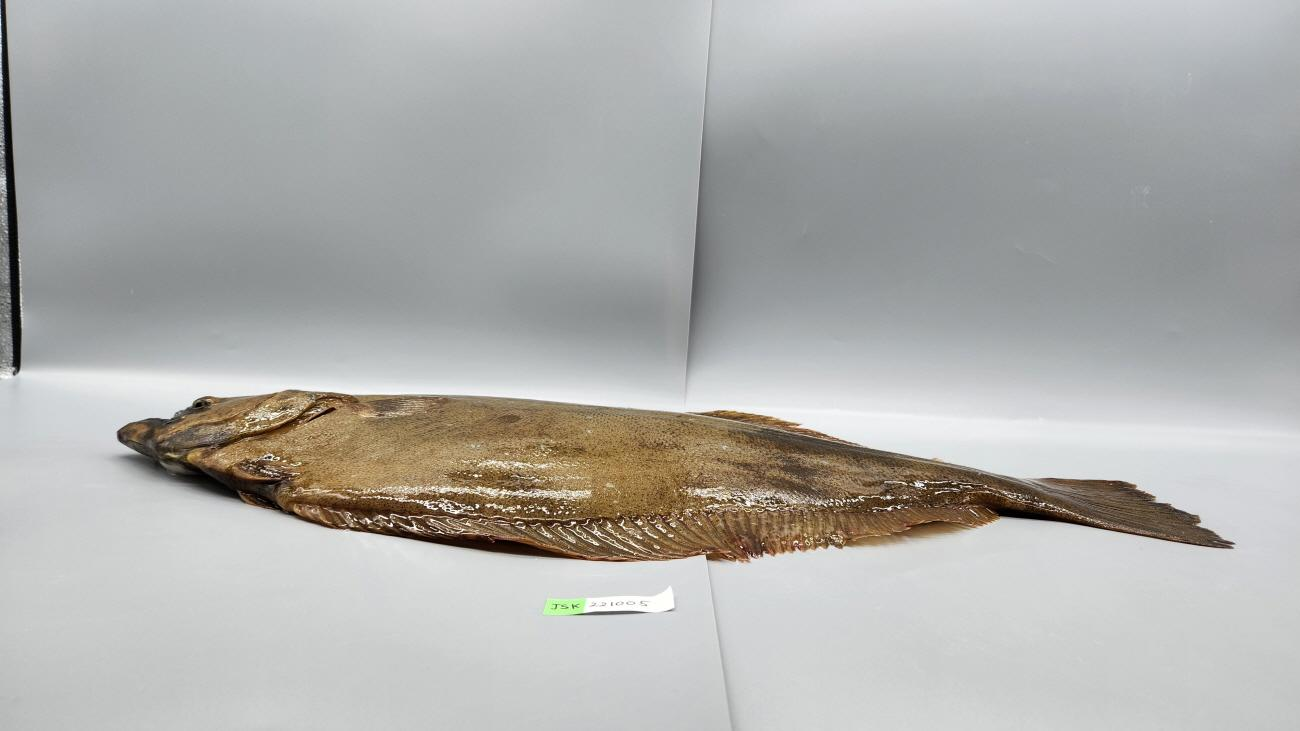POOUN: (117, 388, 1238, 563)
